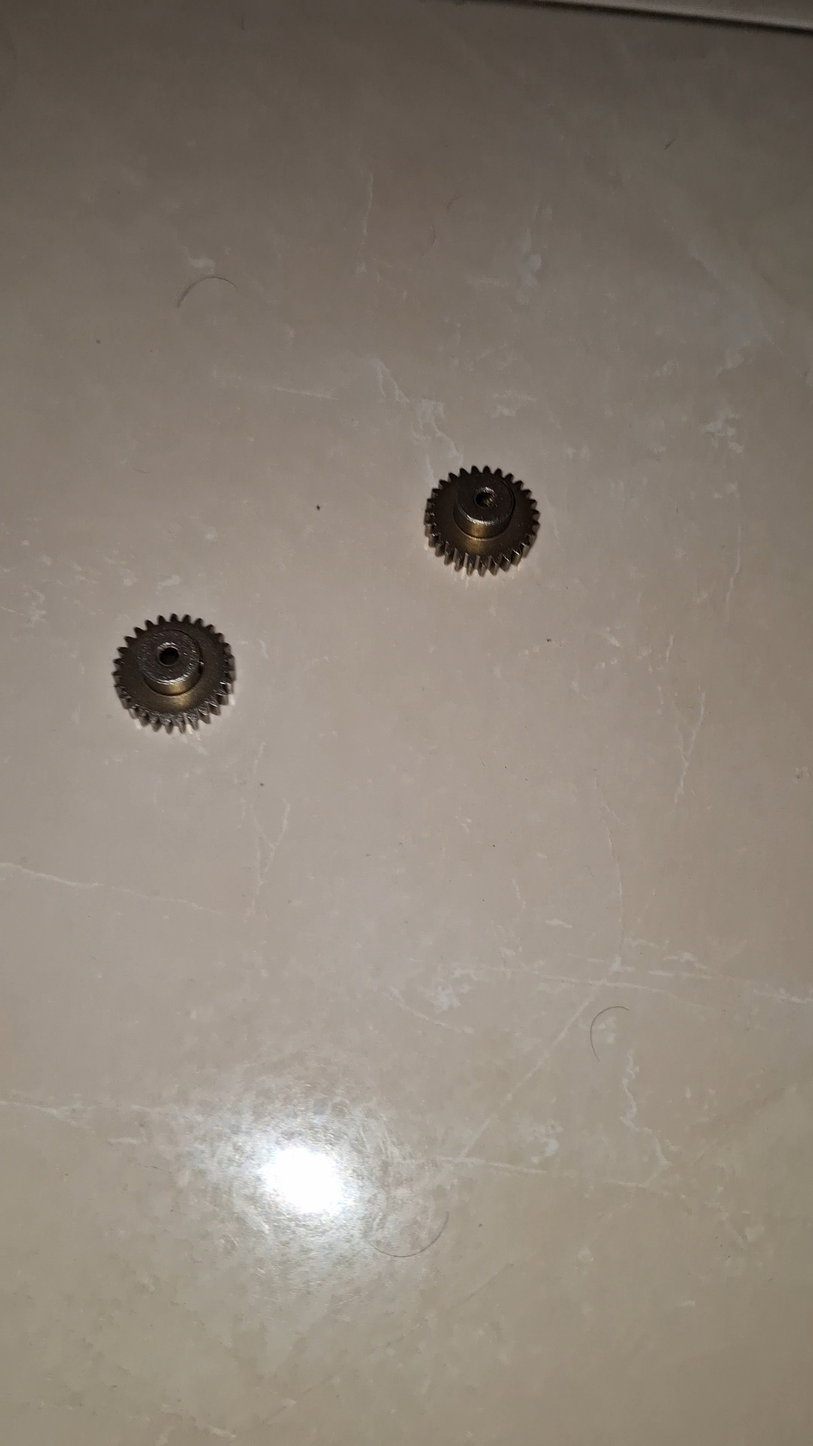spur gear: (113, 614, 235, 732), (424, 468, 539, 574)
